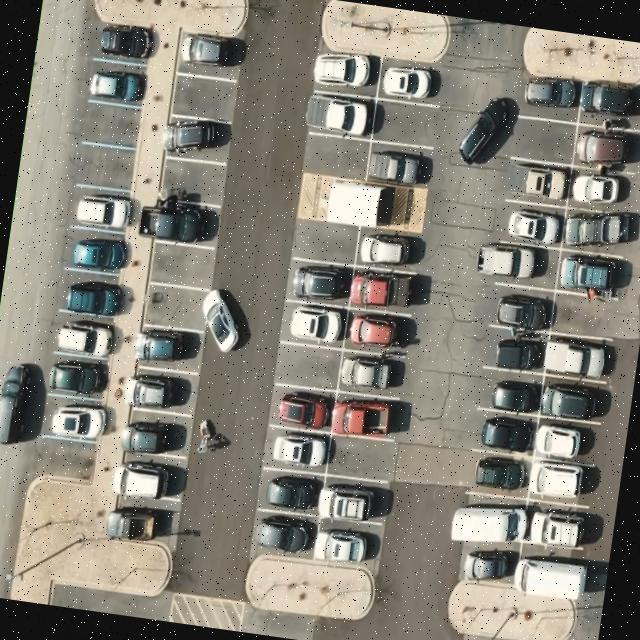space-empty: (133, 150, 226, 209), (548, 290, 620, 343), (168, 70, 238, 124), (370, 98, 442, 150), (139, 281, 207, 335), (326, 434, 399, 484), (274, 342, 344, 394), (507, 115, 577, 167), (290, 214, 360, 266), (145, 240, 215, 292), (70, 140, 139, 192), (306, 132, 372, 182), (78, 100, 142, 151), (33, 432, 93, 480)
space-occupied: (450, 494, 528, 554), (140, 193, 222, 250), (522, 500, 596, 560), (479, 238, 560, 292), (552, 248, 623, 308), (353, 223, 427, 280), (110, 492, 182, 550), (337, 345, 411, 400), (500, 156, 572, 212), (526, 456, 598, 512), (540, 329, 614, 383), (173, 27, 245, 82), (56, 270, 130, 323), (50, 310, 121, 365), (306, 89, 376, 144), (278, 298, 348, 353), (332, 391, 404, 444), (162, 112, 232, 166), (564, 164, 634, 218), (120, 407, 191, 460), (68, 184, 138, 237), (570, 124, 640, 177), (321, 474, 392, 526), (517, 544, 588, 596), (559, 208, 631, 259), (61, 226, 130, 279), (38, 395, 108, 447), (312, 48, 382, 100), (313, 518, 383, 570), (538, 372, 608, 424), (112, 454, 184, 504), (263, 424, 332, 476), (577, 76, 640, 132), (342, 311, 417, 358), (489, 282, 554, 336), (268, 385, 338, 435), (496, 200, 566, 250), (375, 60, 445, 110), (285, 257, 352, 309), (250, 508, 317, 560), (466, 449, 533, 501), (518, 68, 582, 122), (126, 366, 195, 416), (469, 408, 538, 458), (84, 58, 150, 110), (365, 140, 431, 192), (453, 539, 519, 591), (134, 322, 203, 370), (257, 466, 322, 516), (347, 267, 414, 315), (478, 368, 544, 416), (532, 416, 598, 464), (44, 354, 110, 401), (484, 326, 548, 374), (92, 20, 154, 65)
